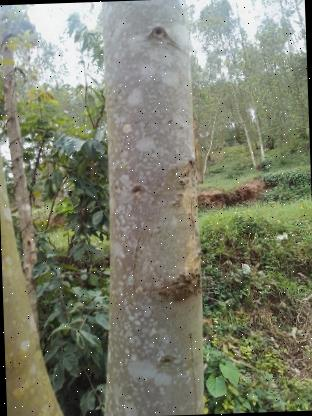tree: (85, 0, 219, 416)
